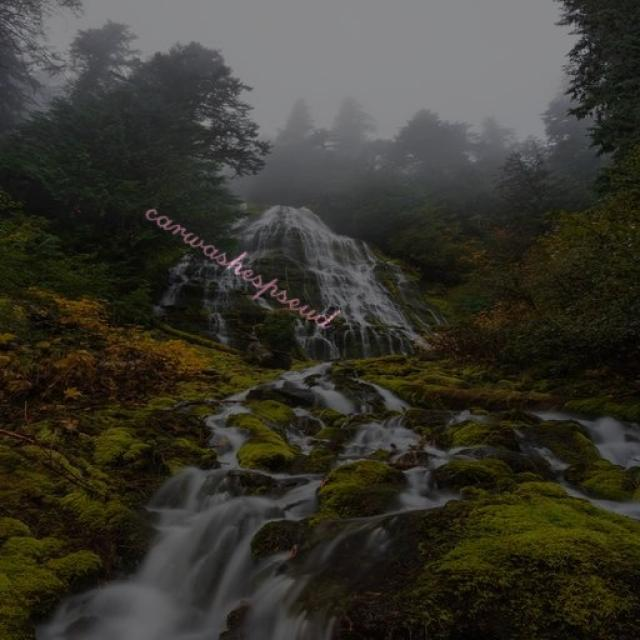watermark: (135, 190, 351, 336)
